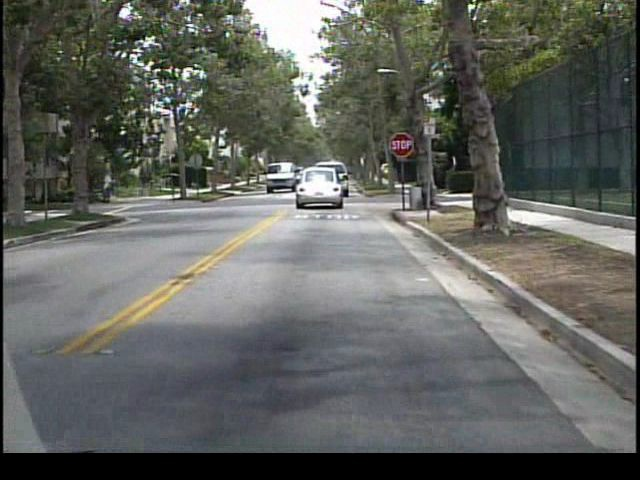person: (102, 165, 120, 207)
